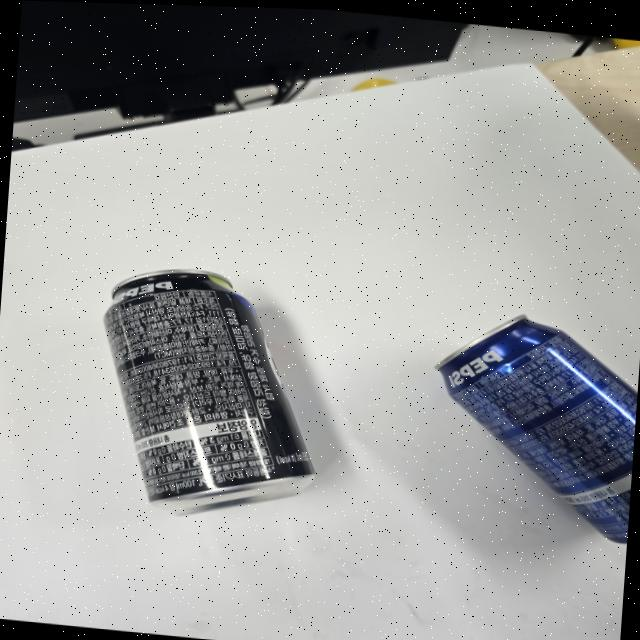can_pepsi: (437, 314, 637, 546)
can_pepsi_zero: (100, 273, 310, 512)
